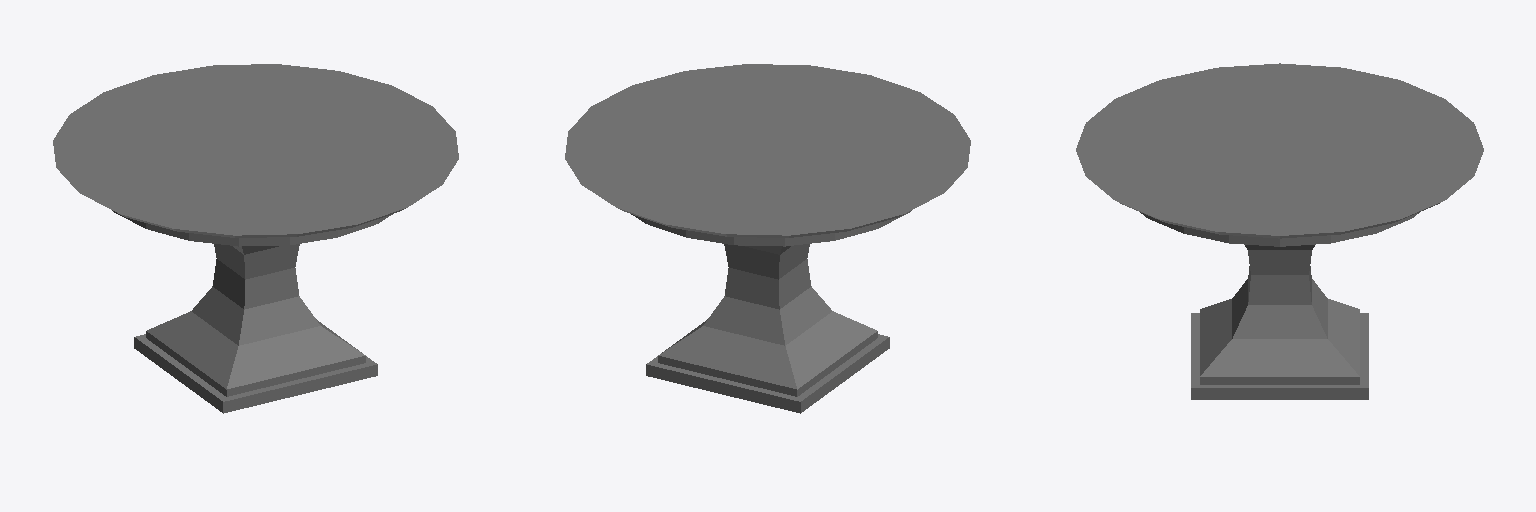
The model's file is Table_UV.obj.
3 renders of one model, left to right at view 1: azimuth 30°, elevation 25°; view 2: azimuth 150°, elevation 25°; view 3: azimuth 270°, elevation 25°, orthographic.
Visible parts, largest first — view 1: pCylinder4; view 2: pCylinder4; view 3: pCylinder4.
Boxes of the visible parts, x1,y1,x2,y2 form: pCylinder4: [53, 64, 458, 413]; pCylinder4: [565, 64, 970, 413]; pCylinder4: [1076, 63, 1483, 399].
Size of the model in its own units: 157 by 89.81 by 157.